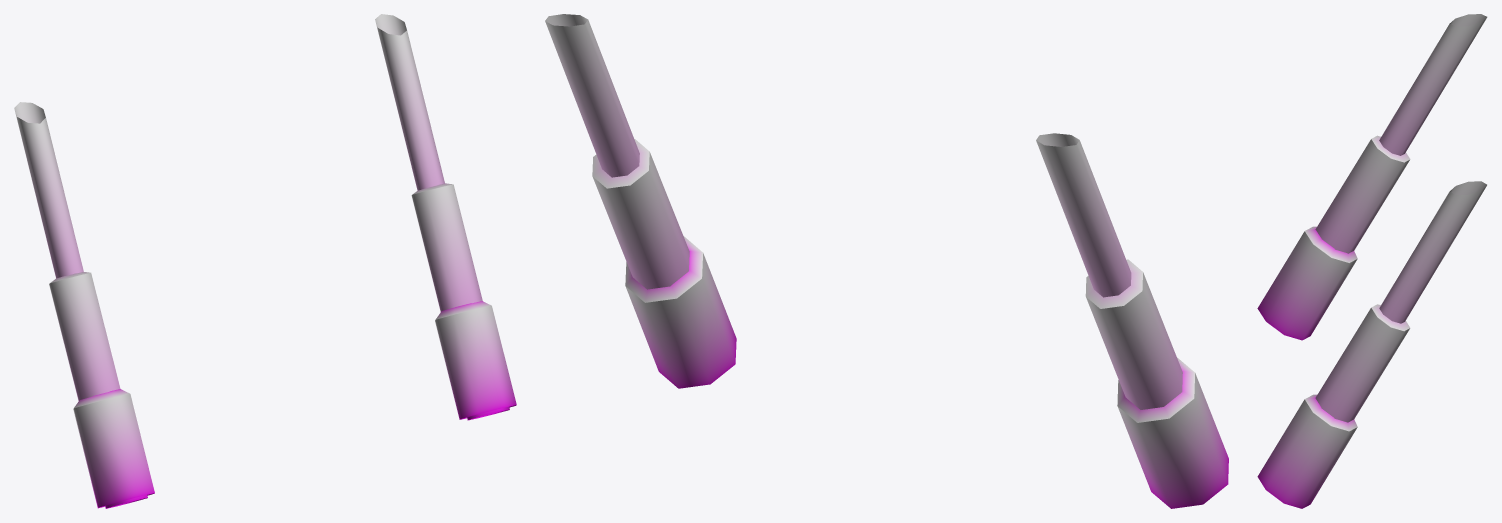
Rendered from Car_Ford_GT_2017_SpoilerPartC_SetA.fbx.
3 renders of one model, left to right at view 1: azimuth 30°, elevation 25°; view 2: azimuth 150°, elevation 25°; view 3: azimuth 270°, elevation 25°, orthographic. The views are drawn at different scales.
Visible parts, largest first — view 1: SpoilerPartC 3; view 2: SpoilerPartC 3; view 3: SpoilerPartC 3.
Boxes of the visible parts, x1,y1,x2,y2 form: SpoilerPartC 3: [14, 14, 516, 508]; SpoilerPartC 3: [545, 14, 1228, 508]; SpoilerPartC 3: [1257, 14, 1487, 508].
Bounding box in the file's own units: 0.3143 × 0.241 × 0.1573.
